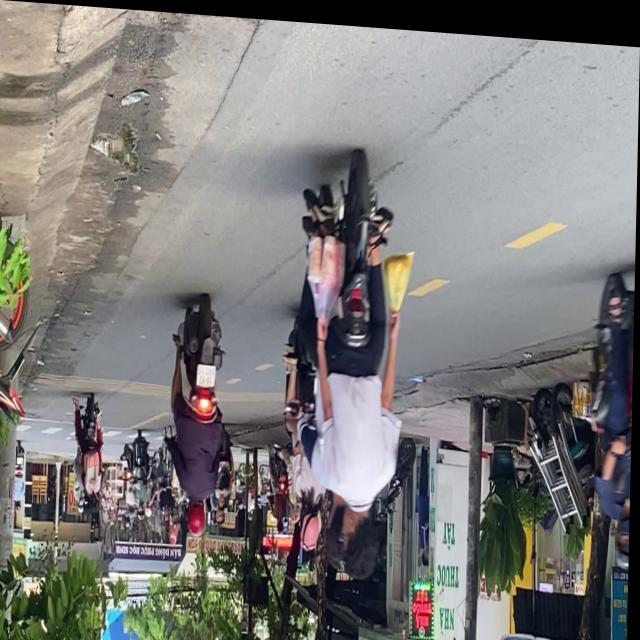helmet: (616, 505, 632, 560), (189, 497, 210, 535)
licenseplate: (285, 141, 419, 580), (583, 240, 636, 561), (167, 292, 231, 538)
motorcyclist: (338, 494, 384, 576)
nohelmet: (199, 362, 218, 385)
